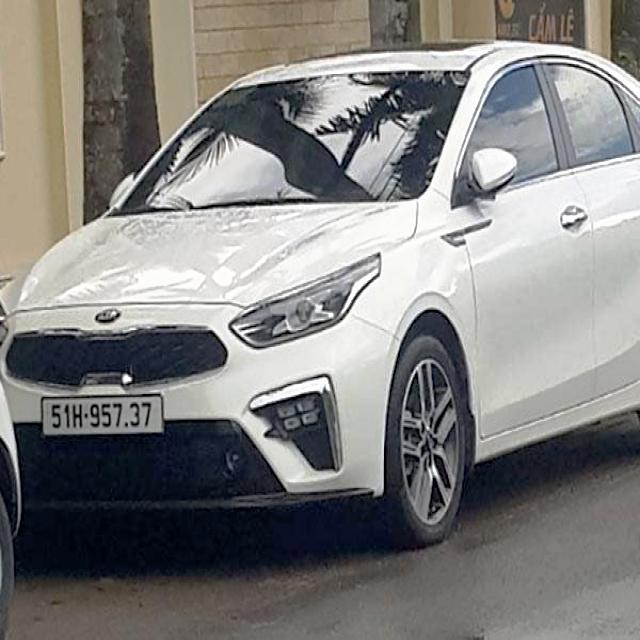license_plate: (44, 395, 164, 434)
